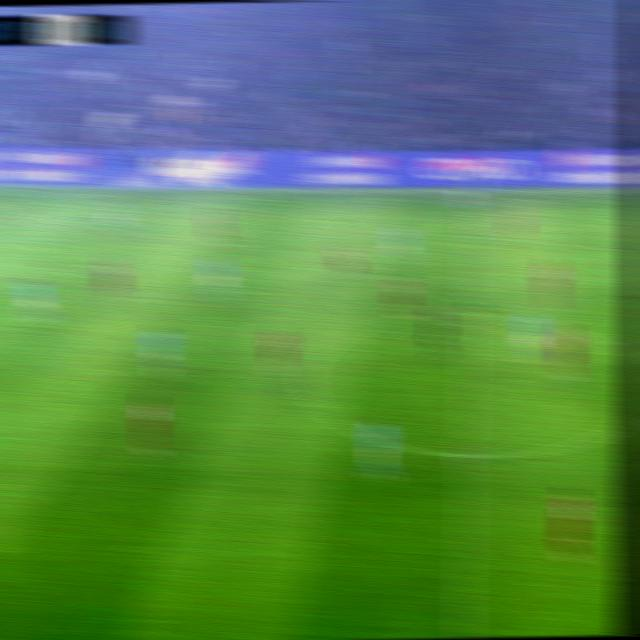halfcircle_bottom: (446, 438, 486, 469)
halfcircle_top: (451, 299, 487, 325)
midline_top_intersection: (452, 190, 490, 211)
